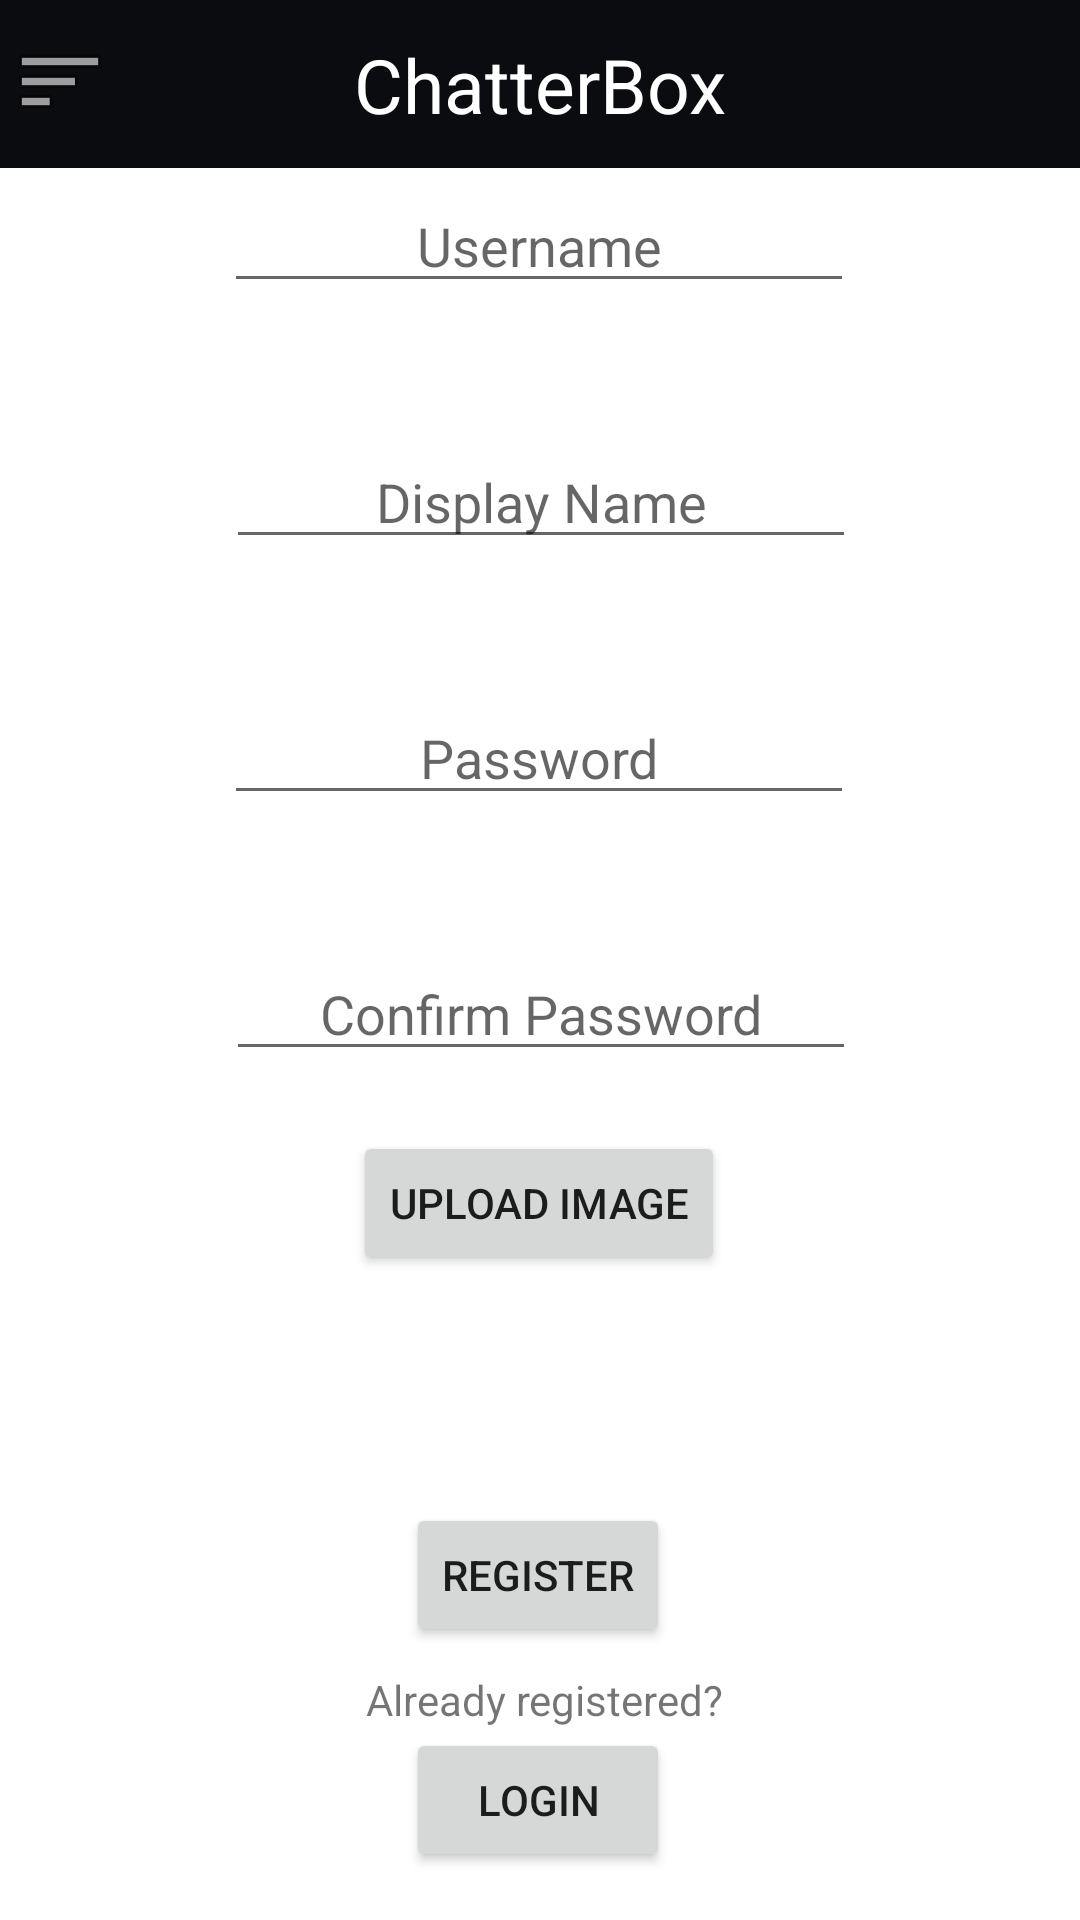

Where to tap for icons on this 1080 × 1920 app screen, as (x=x, y=y):
sort by size: (x=60, y=81)
